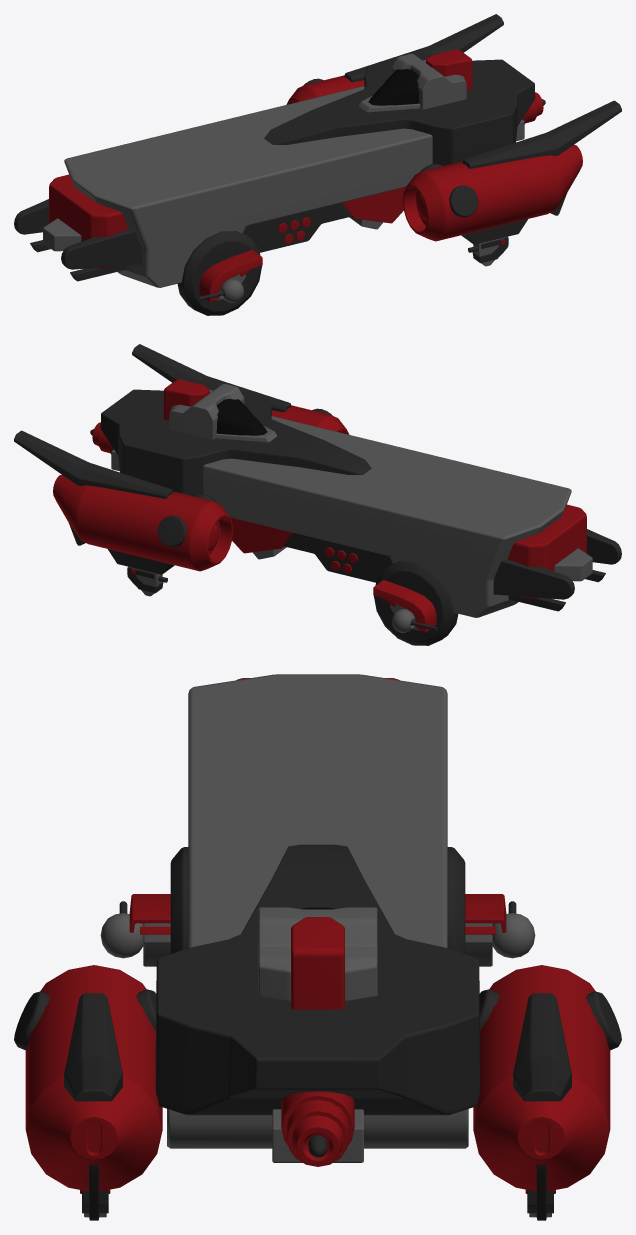
The model's file is Frigate_03.fbx.
The picture shows the model from 3 angles, top to bottom: view 1: azimuth 30°, elevation 25°; view 2: azimuth 150°, elevation 25°; view 3: azimuth 270°, elevation 25°; orthographic projection. The views are drawn at different scales.
Parts seen in each view (by area): view 1: Frigate_3; view 2: Frigate_3; view 3: Frigate_3.
Boxes of the visible parts, x1,y1,x2,y2 form: Frigate_3: (14,14,621,315); Frigate_3: (14,344,621,645); Frigate_3: (14,674,621,1220).
Bounding box in the file's own units: 4102 × 1274 × 2189.
